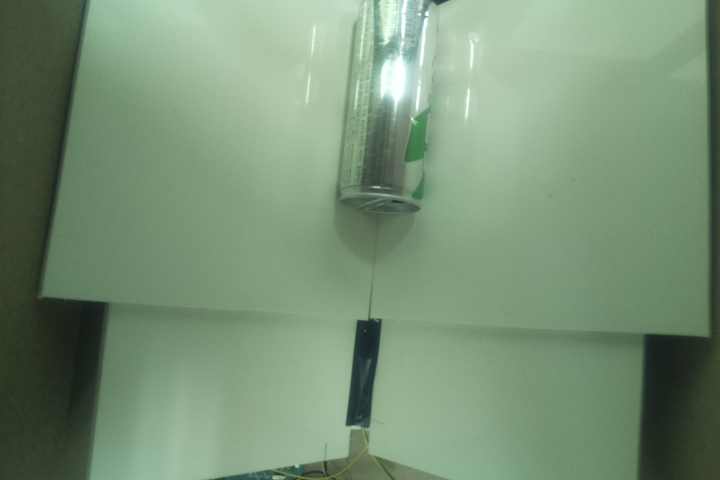can: (330, 1, 437, 220)
